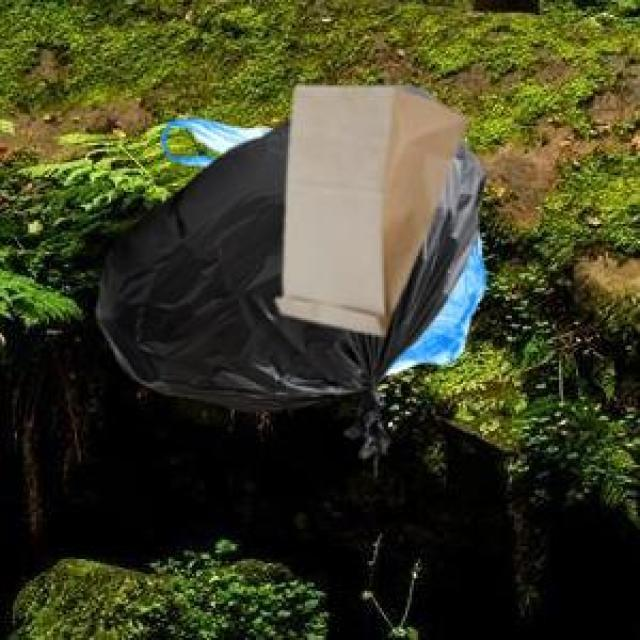miscellaneous trash: (92, 81, 482, 452)
paper: (273, 81, 465, 331)
